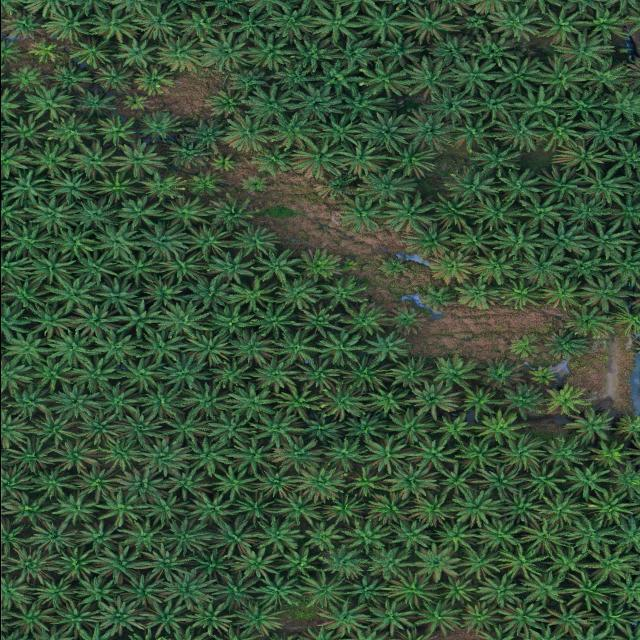Kelapa_Sawit: (290, 140, 346, 179), (163, 571, 216, 607), (562, 572, 614, 608), (384, 194, 436, 230), (467, 142, 522, 176), (200, 33, 250, 70), (115, 140, 165, 176), (360, 113, 410, 149), (403, 4, 452, 40), (410, 544, 460, 578), (294, 466, 344, 500), (159, 521, 211, 553), (586, 598, 632, 634), (30, 196, 76, 232), (136, 330, 184, 364), (158, 301, 206, 335), (24, 86, 72, 120), (248, 34, 293, 70), (47, 278, 97, 310), (564, 306, 614, 338), (360, 170, 413, 200), (569, 516, 613, 552), (116, 300, 160, 336), (230, 328, 274, 364), (452, 489, 497, 524), (272, 329, 317, 364), (227, 276, 276, 308), (554, 144, 610, 172), (50, 384, 96, 418), (92, 278, 138, 312), (135, 4, 181, 38), (222, 117, 268, 151), (46, 5, 93, 38), (140, 548, 190, 579), (92, 331, 142, 362), (322, 383, 366, 418), (275, 383, 319, 418), (292, 88, 340, 120), (522, 572, 567, 606), (296, 247, 342, 280), (368, 544, 410, 580), (6, 168, 48, 204), (341, 518, 388, 550), (492, 9, 542, 39), (447, 172, 497, 202), (165, 134, 209, 168), (207, 412, 255, 443), (247, 89, 292, 122), (498, 544, 544, 576), (206, 304, 252, 336), (313, 62, 359, 94), (495, 58, 541, 90), (4, 113, 46, 148), (183, 276, 230, 307), (256, 518, 300, 551), (28, 142, 72, 175), (388, 574, 436, 604), (544, 603, 592, 633), (343, 358, 388, 390), (48, 333, 96, 363), (74, 304, 119, 336), (274, 278, 322, 308), (48, 114, 96, 144), (72, 138, 112, 174), (176, 8, 224, 38), (357, 8, 402, 40), (562, 34, 610, 64), (590, 545, 632, 579), (524, 518, 566, 552), (412, 382, 454, 416), (432, 193, 474, 227), (452, 222, 494, 256), (184, 333, 230, 364), (362, 331, 408, 362), (387, 144, 433, 175), (212, 466, 256, 498), (368, 437, 412, 469), (141, 442, 185, 474), (27, 302, 71, 334), (251, 304, 295, 336), (318, 331, 362, 363), (141, 224, 185, 256), (342, 142, 386, 174), (407, 61, 448, 95), (117, 469, 165, 498), (322, 545, 364, 578), (274, 438, 320, 468), (233, 226, 279, 256), (73, 198, 119, 228), (136, 112, 182, 142), (540, 10, 586, 40), (584, 117, 630, 147), (496, 226, 542, 256), (568, 408, 612, 439), (256, 412, 300, 443), (458, 544, 498, 578), (270, 2, 310, 36), (540, 58, 580, 92), (338, 200, 379, 233), (388, 466, 433, 496), (416, 601, 458, 633), (159, 38, 201, 70), (91, 10, 139, 38), (207, 86, 249, 118), (268, 116, 316, 144), (582, 168, 624, 200), (206, 252, 252, 281), (374, 36, 420, 65), (316, 115, 359, 146), (497, 117, 540, 148), (604, 140, 640, 177), (188, 602, 232, 632), (254, 576, 298, 606), (53, 492, 97, 522), (77, 412, 121, 442), (10, 440, 54, 470), (30, 252, 74, 282), (141, 278, 185, 308), (297, 306, 341, 336), (322, 278, 366, 308), (362, 64, 406, 94), (582, 9, 626, 39), (428, 33, 472, 63), (540, 224, 584, 254), (499, 604, 546, 632), (253, 252, 300, 280), (302, 574, 343, 606), (478, 520, 520, 551), (54, 440, 96, 471), (228, 387, 276, 414), (406, 226, 454, 253), (233, 548, 276, 578), (233, 490, 276, 520), (388, 410, 431, 440), (225, 9, 268, 39), (161, 360, 207, 388), (544, 330, 590, 358), (156, 252, 202, 280), (514, 90, 560, 118), (314, 6, 354, 38), (582, 58, 622, 90), (185, 440, 229, 469), (6, 225, 50, 254), (452, 115, 493, 146), (584, 277, 625, 308), (237, 603, 279, 633), (478, 575, 520, 605), (278, 548, 320, 578), (74, 468, 119, 496), (190, 492, 232, 522), (566, 462, 608, 492), (412, 438, 454, 468), (434, 357, 476, 387), (164, 412, 206, 442), (117, 358, 159, 388), (1, 280, 46, 308), (184, 228, 230, 255), (208, 200, 254, 227), (342, 91, 388, 118), (517, 253, 563, 280), (122, 520, 162, 551), (388, 519, 432, 547), (586, 492, 630, 520), (544, 384, 588, 412), (388, 358, 432, 386), (113, 40, 157, 68), (470, 254, 514, 282), (75, 359, 116, 389), (409, 116, 450, 146), (479, 466, 521, 495), (500, 493, 542, 522), (503, 438, 545, 467), (456, 439, 498, 468), (298, 358, 340, 387), (31, 357, 70, 388), (33, 522, 76, 550), (479, 412, 522, 440), (119, 198, 162, 226), (324, 602, 364, 632), (546, 544, 586, 574), (436, 519, 476, 549), (410, 493, 450, 523), (500, 168, 540, 198), (500, 280, 540, 310), (562, 250, 602, 280), (518, 195, 558, 225), (339, 306, 385, 332), (53, 227, 97, 254), (5, 332, 42, 364), (190, 118, 227, 150), (100, 601, 138, 632), (9, 604, 51, 632), (144, 494, 186, 522), (166, 468, 208, 496), (542, 494, 584, 522), (432, 414, 474, 442), (33, 412, 75, 440), (52, 173, 94, 201), (562, 90, 604, 118), (96, 495, 143, 520), (5, 498, 50, 524), (522, 464, 561, 494), (453, 61, 492, 91), (115, 252, 155, 281), (543, 118, 579, 150), (182, 387, 228, 412), (70, 38, 111, 66), (455, 282, 496, 310), (539, 170, 580, 198), (544, 440, 588, 466), (367, 387, 411, 413), (136, 388, 180, 414), (72, 91, 116, 117), (428, 94, 472, 120), (214, 521, 252, 551), (12, 386, 50, 416), (475, 88, 513, 118), (98, 550, 140, 577), (98, 441, 140, 468), (97, 228, 139, 255), (92, 174, 134, 201), (292, 37, 334, 64), (250, 148, 292, 175), (314, 173, 356, 200), (480, 360, 520, 388), (458, 386, 498, 414), (119, 414, 159, 442), (91, 64, 131, 92), (333, 39, 373, 67), (432, 252, 469, 282), (30, 470, 76, 494), (56, 604, 95, 632), (33, 580, 75, 606), (304, 412, 343, 440), (475, 34, 514, 62), (476, 199, 518, 225), (0, 250, 32, 284), (324, 496, 364, 523), (74, 252, 110, 282), (136, 65, 172, 95), (278, 64, 318, 91), (98, 115, 135, 144), (215, 576, 256, 602), (146, 604, 184, 632), (80, 522, 118, 550), (257, 468, 295, 496), (326, 438, 364, 466), (588, 226, 626, 254), (562, 200, 606, 224), (460, 603, 496, 632), (232, 442, 272, 468), (212, 362, 252, 388), (51, 66, 91, 92), (544, 280, 583, 306), (304, 522, 340, 550), (371, 494, 407, 522), (348, 414, 384, 442), (388, 306, 424, 334), (8, 65, 44, 93), (11, 552, 48, 579), (78, 578, 116, 604), (436, 467, 474, 493), (6, 11, 44, 37), (611, 574, 640, 608), (506, 385, 540, 414), (0, 410, 26, 447), (374, 602, 408, 630), (0, 143, 28, 177), (57, 550, 95, 575), (127, 578, 163, 604), (280, 494, 316, 520), (165, 200, 204, 224), (229, 68, 268, 92), (1, 466, 30, 498), (193, 551, 227, 578), (98, 388, 136, 412), (439, 577, 475, 602), (347, 468, 383, 493), (258, 361, 294, 386), (612, 252, 640, 284), (27, 40, 65, 63), (613, 195, 640, 227), (0, 360, 26, 393), (185, 172, 222, 195), (591, 441, 625, 466), (610, 465, 640, 493), (610, 92, 640, 120), (420, 286, 454, 310), (351, 577, 383, 602), (508, 334, 540, 358), (0, 577, 27, 605), (0, 522, 26, 550), (614, 306, 640, 334), (0, 303, 23, 334), (0, 87, 19, 123), (618, 520, 640, 551), (145, 176, 179, 196), (615, 414, 640, 441), (1, 200, 24, 228), (528, 364, 557, 386), (120, 94, 152, 112), (202, 0, 248, 12), (380, 258, 408, 276), (458, 14, 486, 32), (240, 176, 268, 193), (0, 40, 18, 65), (210, 154, 234, 170), (342, 257, 358, 271)
